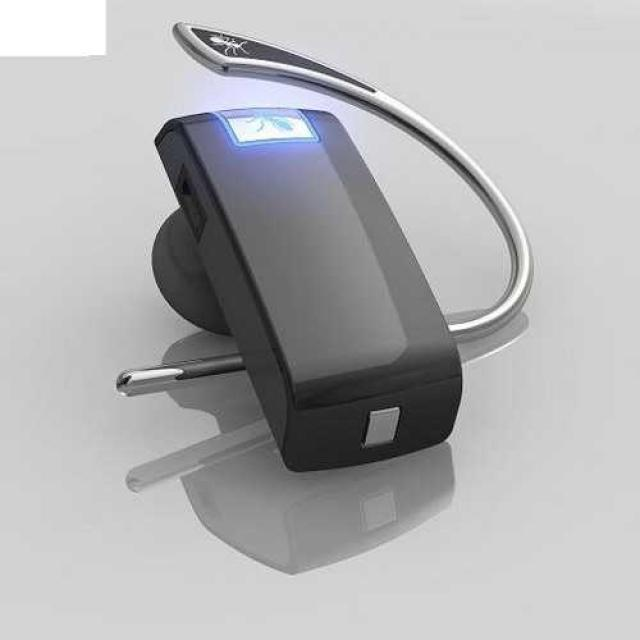microphone: (167, 7, 528, 176)
